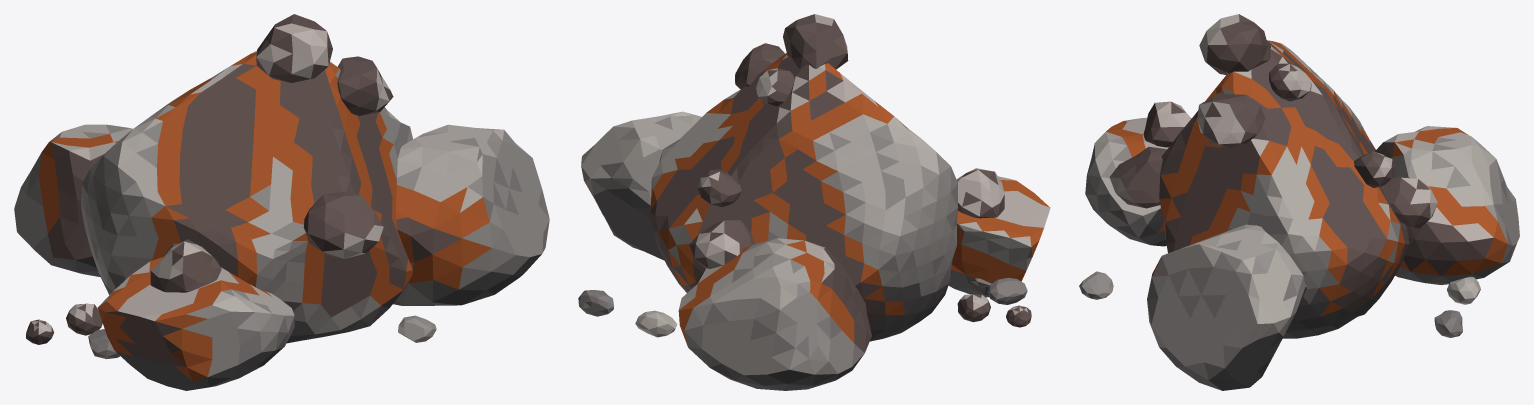
File: Vein_Iron.obj
3 renders of one model, left to right at view 1: azimuth 30°, elevation 25°; view 2: azimuth 150°, elevation 25°; view 3: azimuth 270°, elevation 25°, orthographic. The views are drawn at different scales.
Visible parts, largest first — view 1: Vein_Iron; view 2: Vein_Iron; view 3: Vein_Iron.
Boxes of the visible parts, box(x1,y1,x2,y2) form: Vein_Iron: box(14, 14, 549, 390); Vein_Iron: box(578, 14, 1050, 390); Vein_Iron: box(1079, 14, 1519, 390).
Size of the model in its own units: 1.64 by 0.9099 by 1.34.
